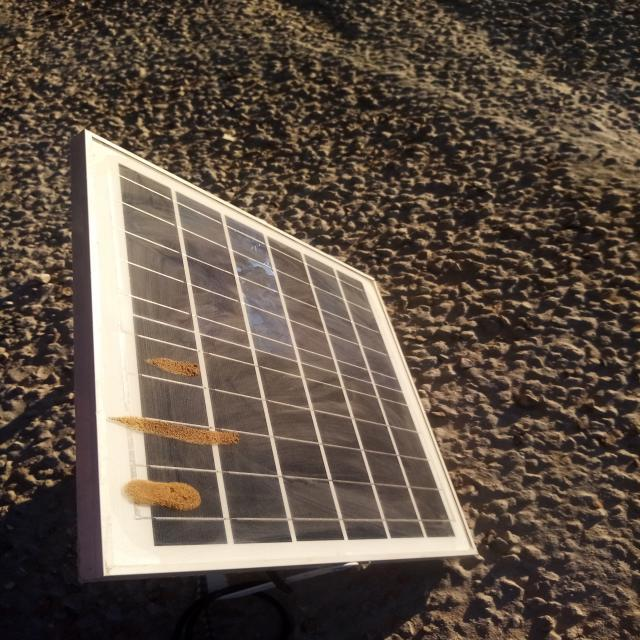faulty: (88, 135, 474, 575)
